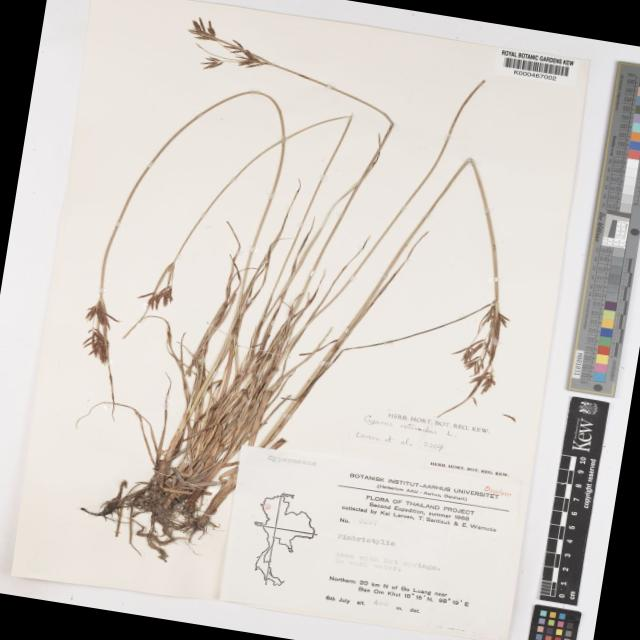cyperus: (63, 242, 200, 378), (430, 294, 538, 418), (168, 10, 274, 88)
